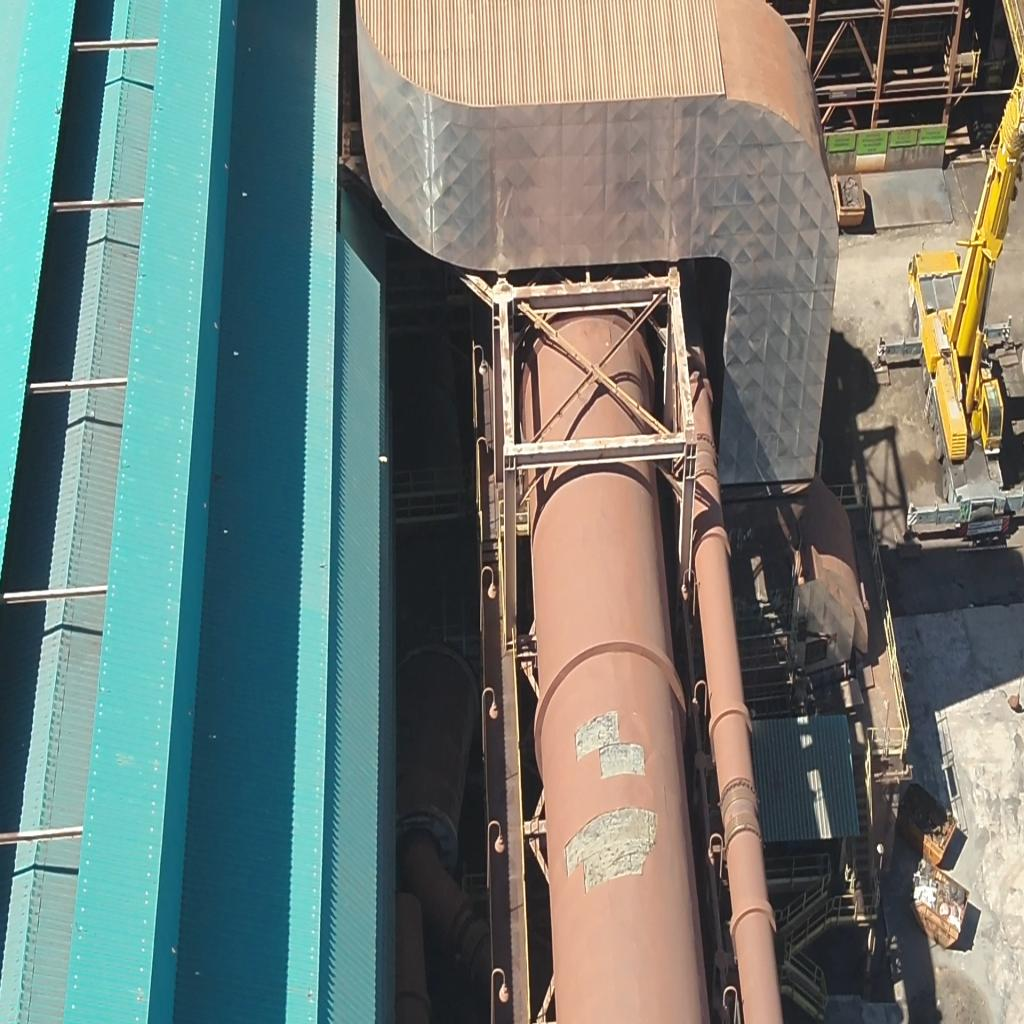Failures: (559, 803, 666, 893), (567, 706, 648, 784)
